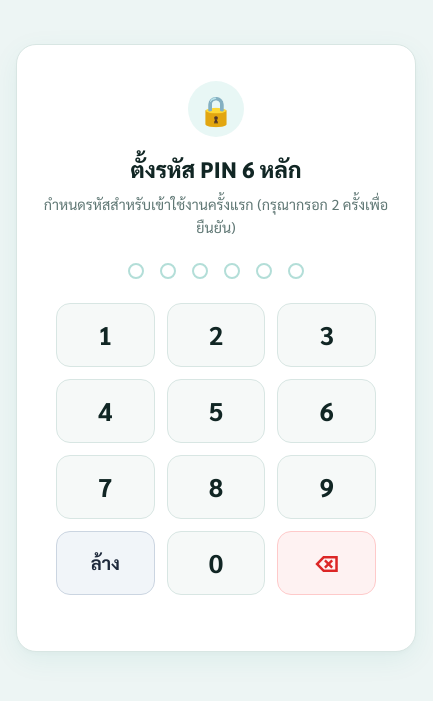
Test: PinAuthView › rejects weak PIN during setup (repeated or sequential digits)
What coordinates should you click on to do the following:
click the button "1"
I would click on:
 (105, 335)
Its box is [56,303,155,367].
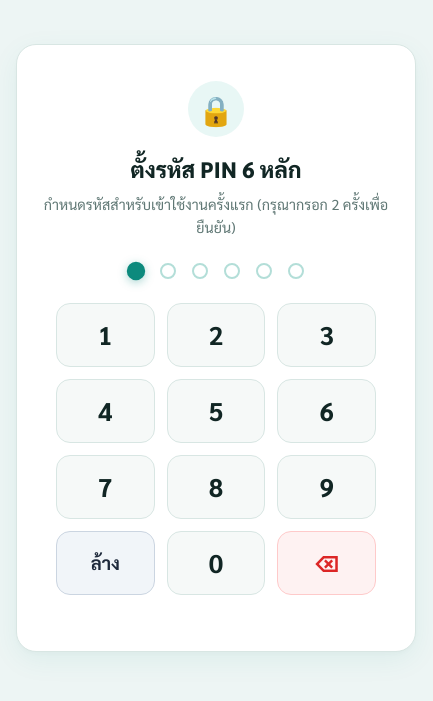
What coordinates should you click on to do the following:
click the button "1"
I would click on:
 (105, 335)
Its box is [56,303,155,367].
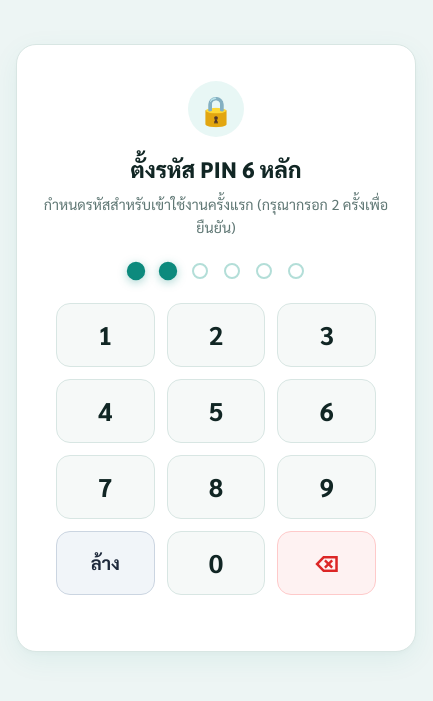
What coordinates should you click on to do the following:
click the button "1"
I would click on:
 (105, 335)
Its box is [56,303,155,367].
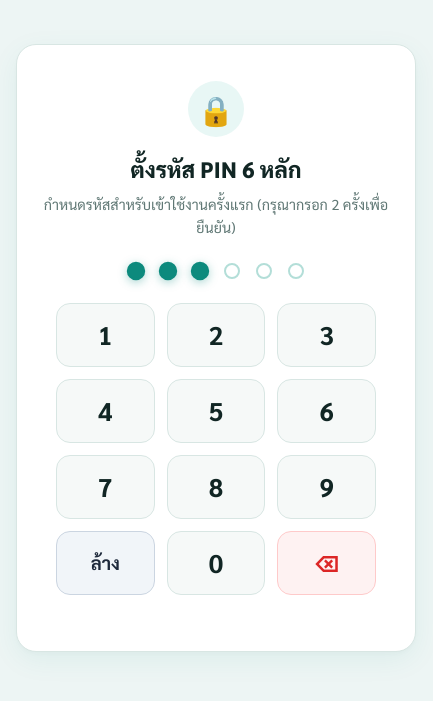
What coordinates should you click on to do the following:
click the button "1"
I would click on:
 (105, 335)
Its box is [56,303,155,367].
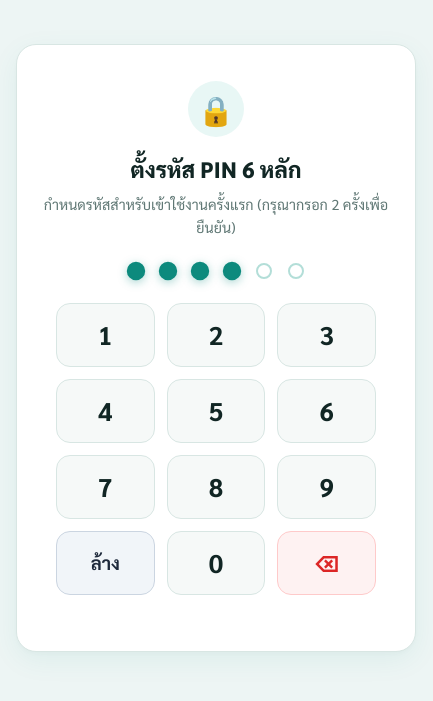
What coordinates should you click on to do the following:
click the button "1"
I would click on:
 (105, 335)
Its box is [56,303,155,367].
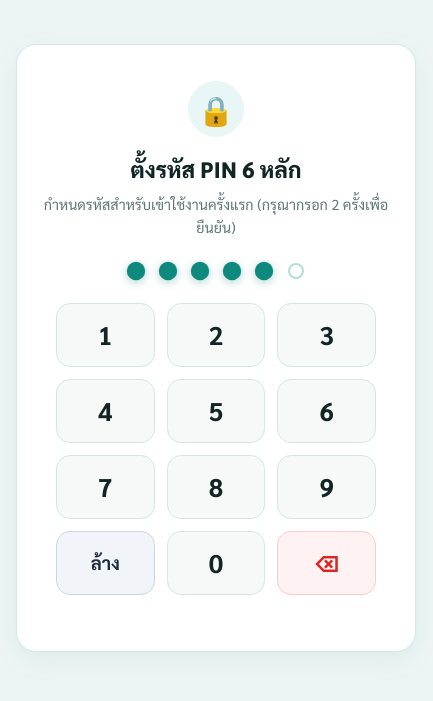
What coordinates should you click on to do the following:
click the button "1"
I would click on:
 (105, 335)
Its box is [56,303,155,367].
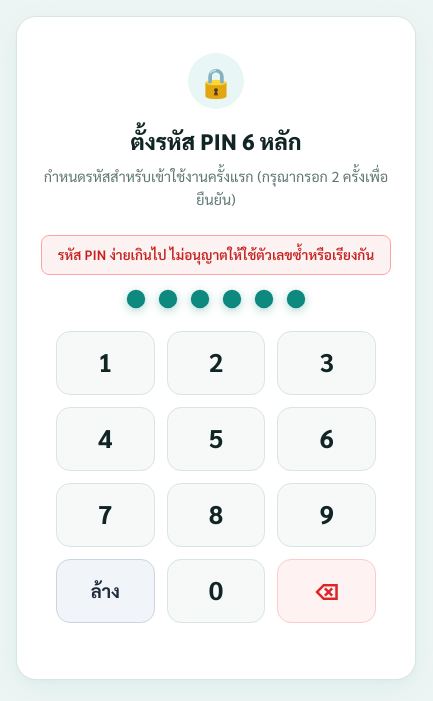
Expected: the heading "ตั้งรหัส PIN 6 หลัก" is shown, [130,126,302,155]
Now the text "รหัส PIN ง่ายเกินไป ไม่อนุญาตให้ใช้ตัวเลขซ้ำหรือเรียงกัน" is shown, box [41,235,391,275]
